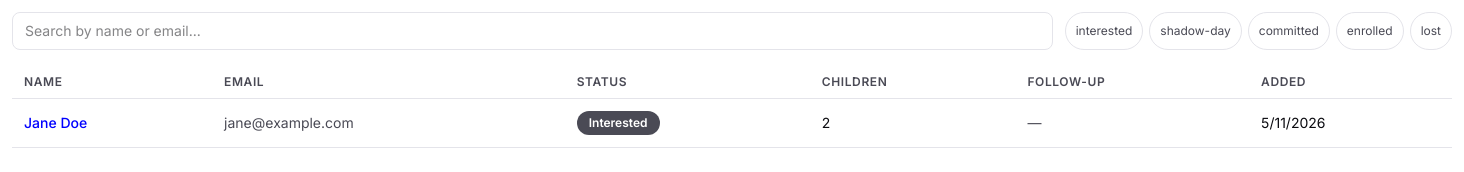
Test: ProspectTable › empty search results show 'No prospects found'
Type "zzzznotfound" into the field with placeholder "Search by name or email..." at coordinates (532, 31), box 12,12 -> 1053,50
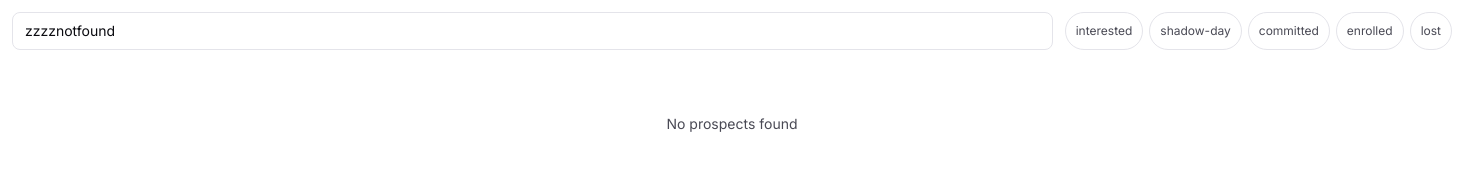
Now the text "No prospects found" is shown, box 666,115 -> 798,132
